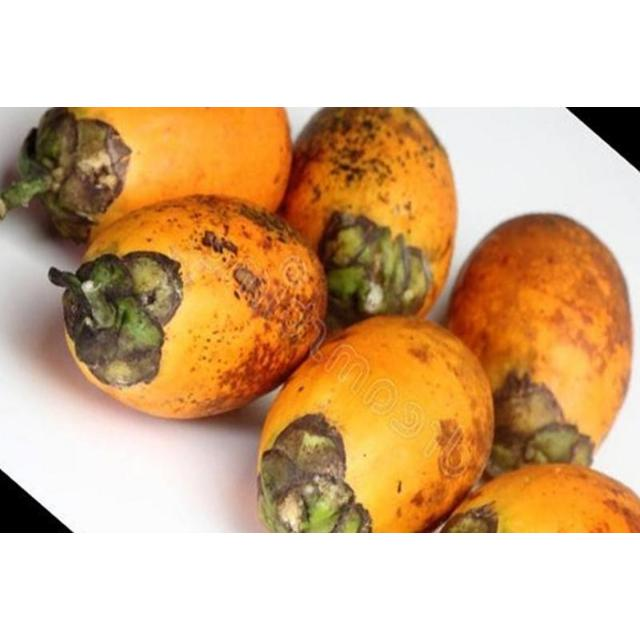good: (48, 194, 327, 421), (256, 317, 496, 533), (444, 213, 633, 470), (278, 107, 459, 329), (20, 107, 293, 244), (441, 465, 639, 533)
